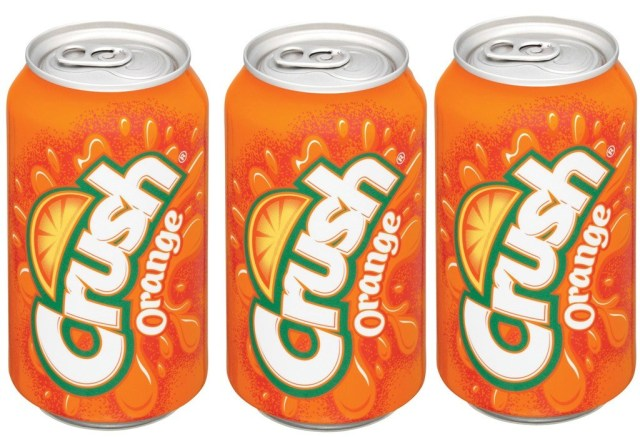can: (3, 15, 213, 434), (219, 19, 429, 435), (431, 18, 640, 424)
